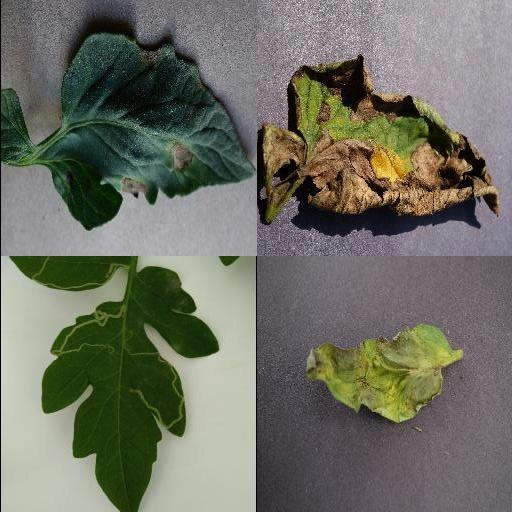Early Blight: (46, 31, 256, 232)
Late Blight: (261, 53, 501, 217), (303, 324, 451, 424)
Leaf Miner: (42, 266, 221, 512)
